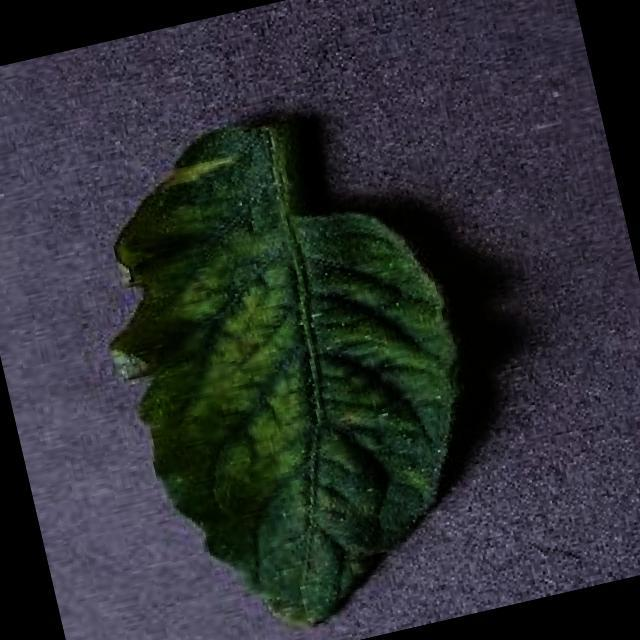Tomato mosaic virus leaf: (63, 83, 519, 640)
